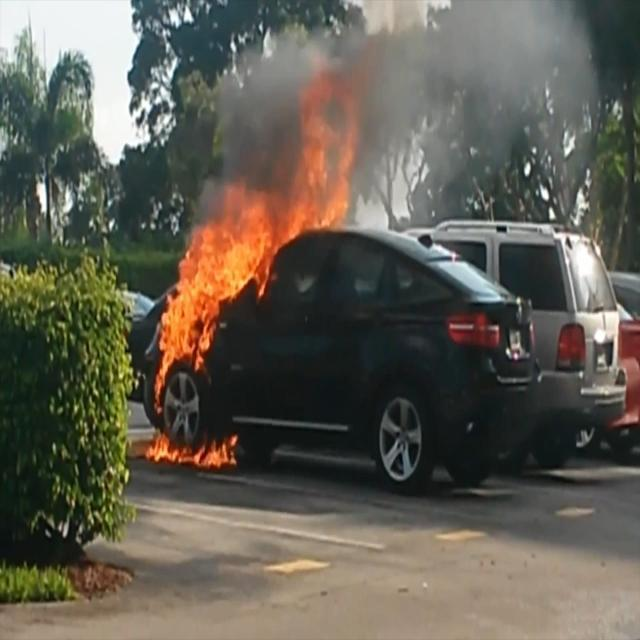fire: (143, 72, 360, 470)
